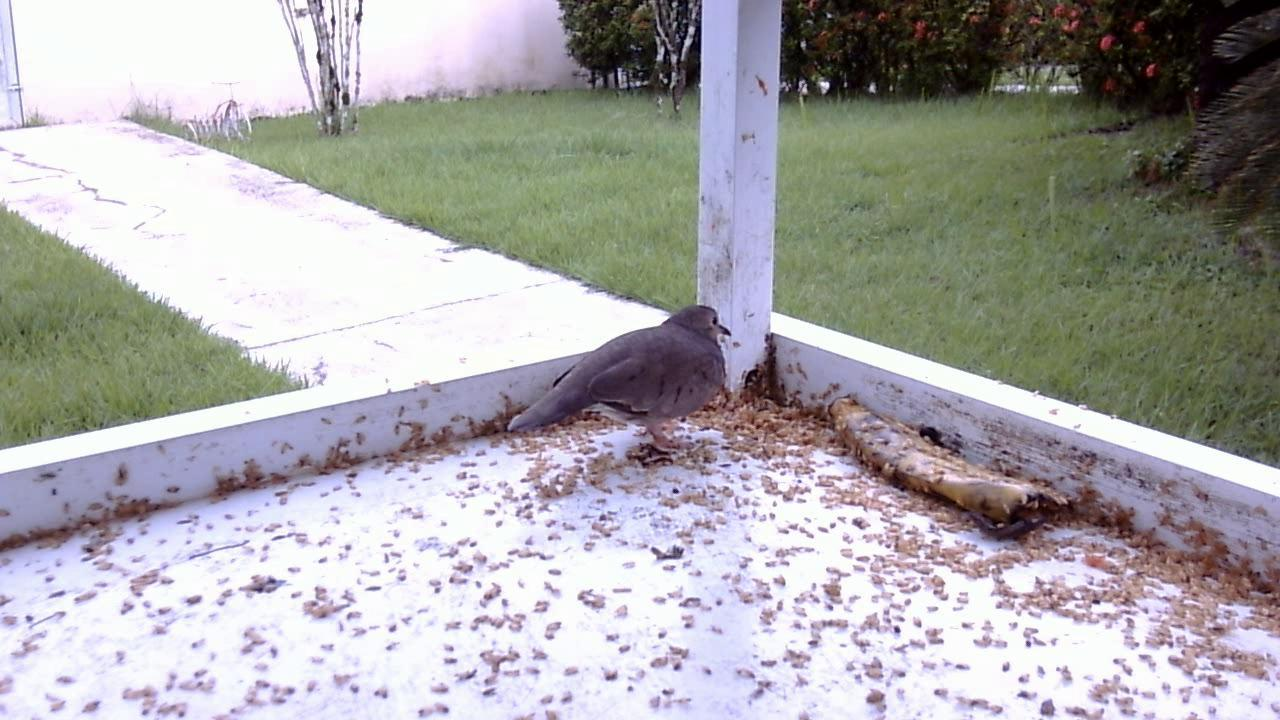rolinha: (501, 297, 739, 474)
